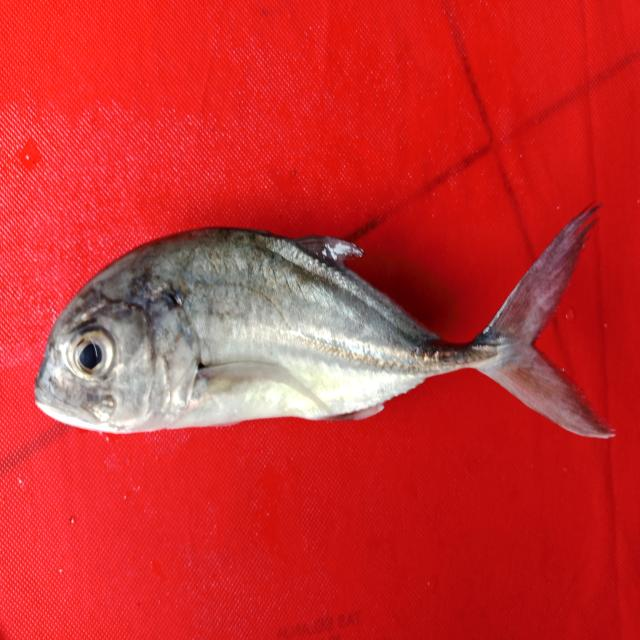ikan: (20, 189, 624, 455)
